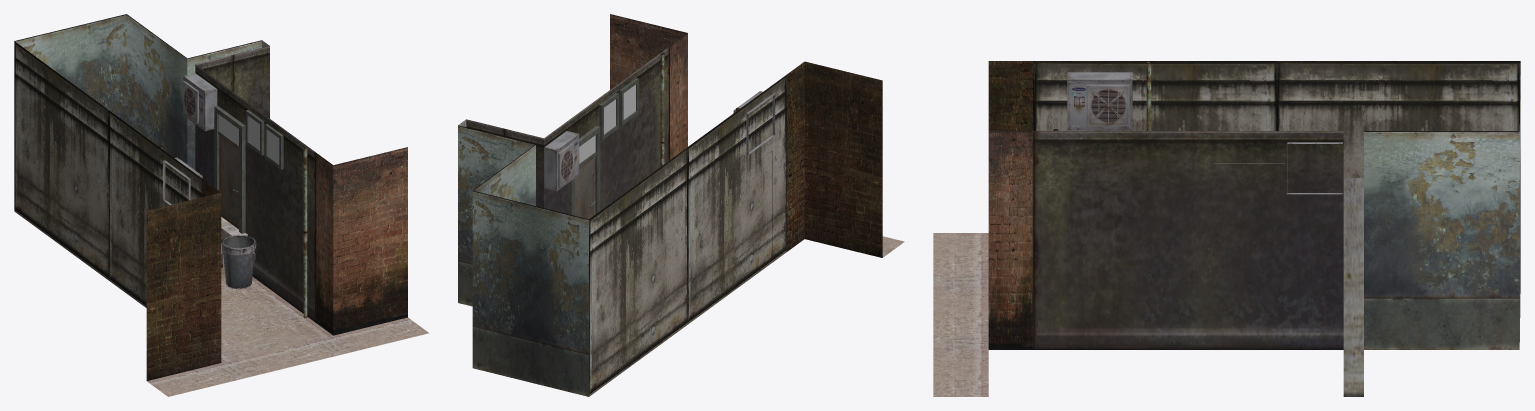
The model's file is Alley_03.fbx.
3 renders of one model, left to right at view 1: azimuth 30°, elevation 25°; view 2: azimuth 150°, elevation 25°; view 3: azimuth 270°, elevation 25°, orthographic. The views are drawn at different scales.
Visible parts, largest first — view 1: Alley_03; view 2: Alley_03; view 3: Alley_03.
Part boxes in pixels (x1,y1,x2,y2): Alley_03: (14,14,429,396); Alley_03: (458,14,904,396); Alley_03: (933,61,1520,396).
Size of the model in its own units: 700 by 449 by 1060.
